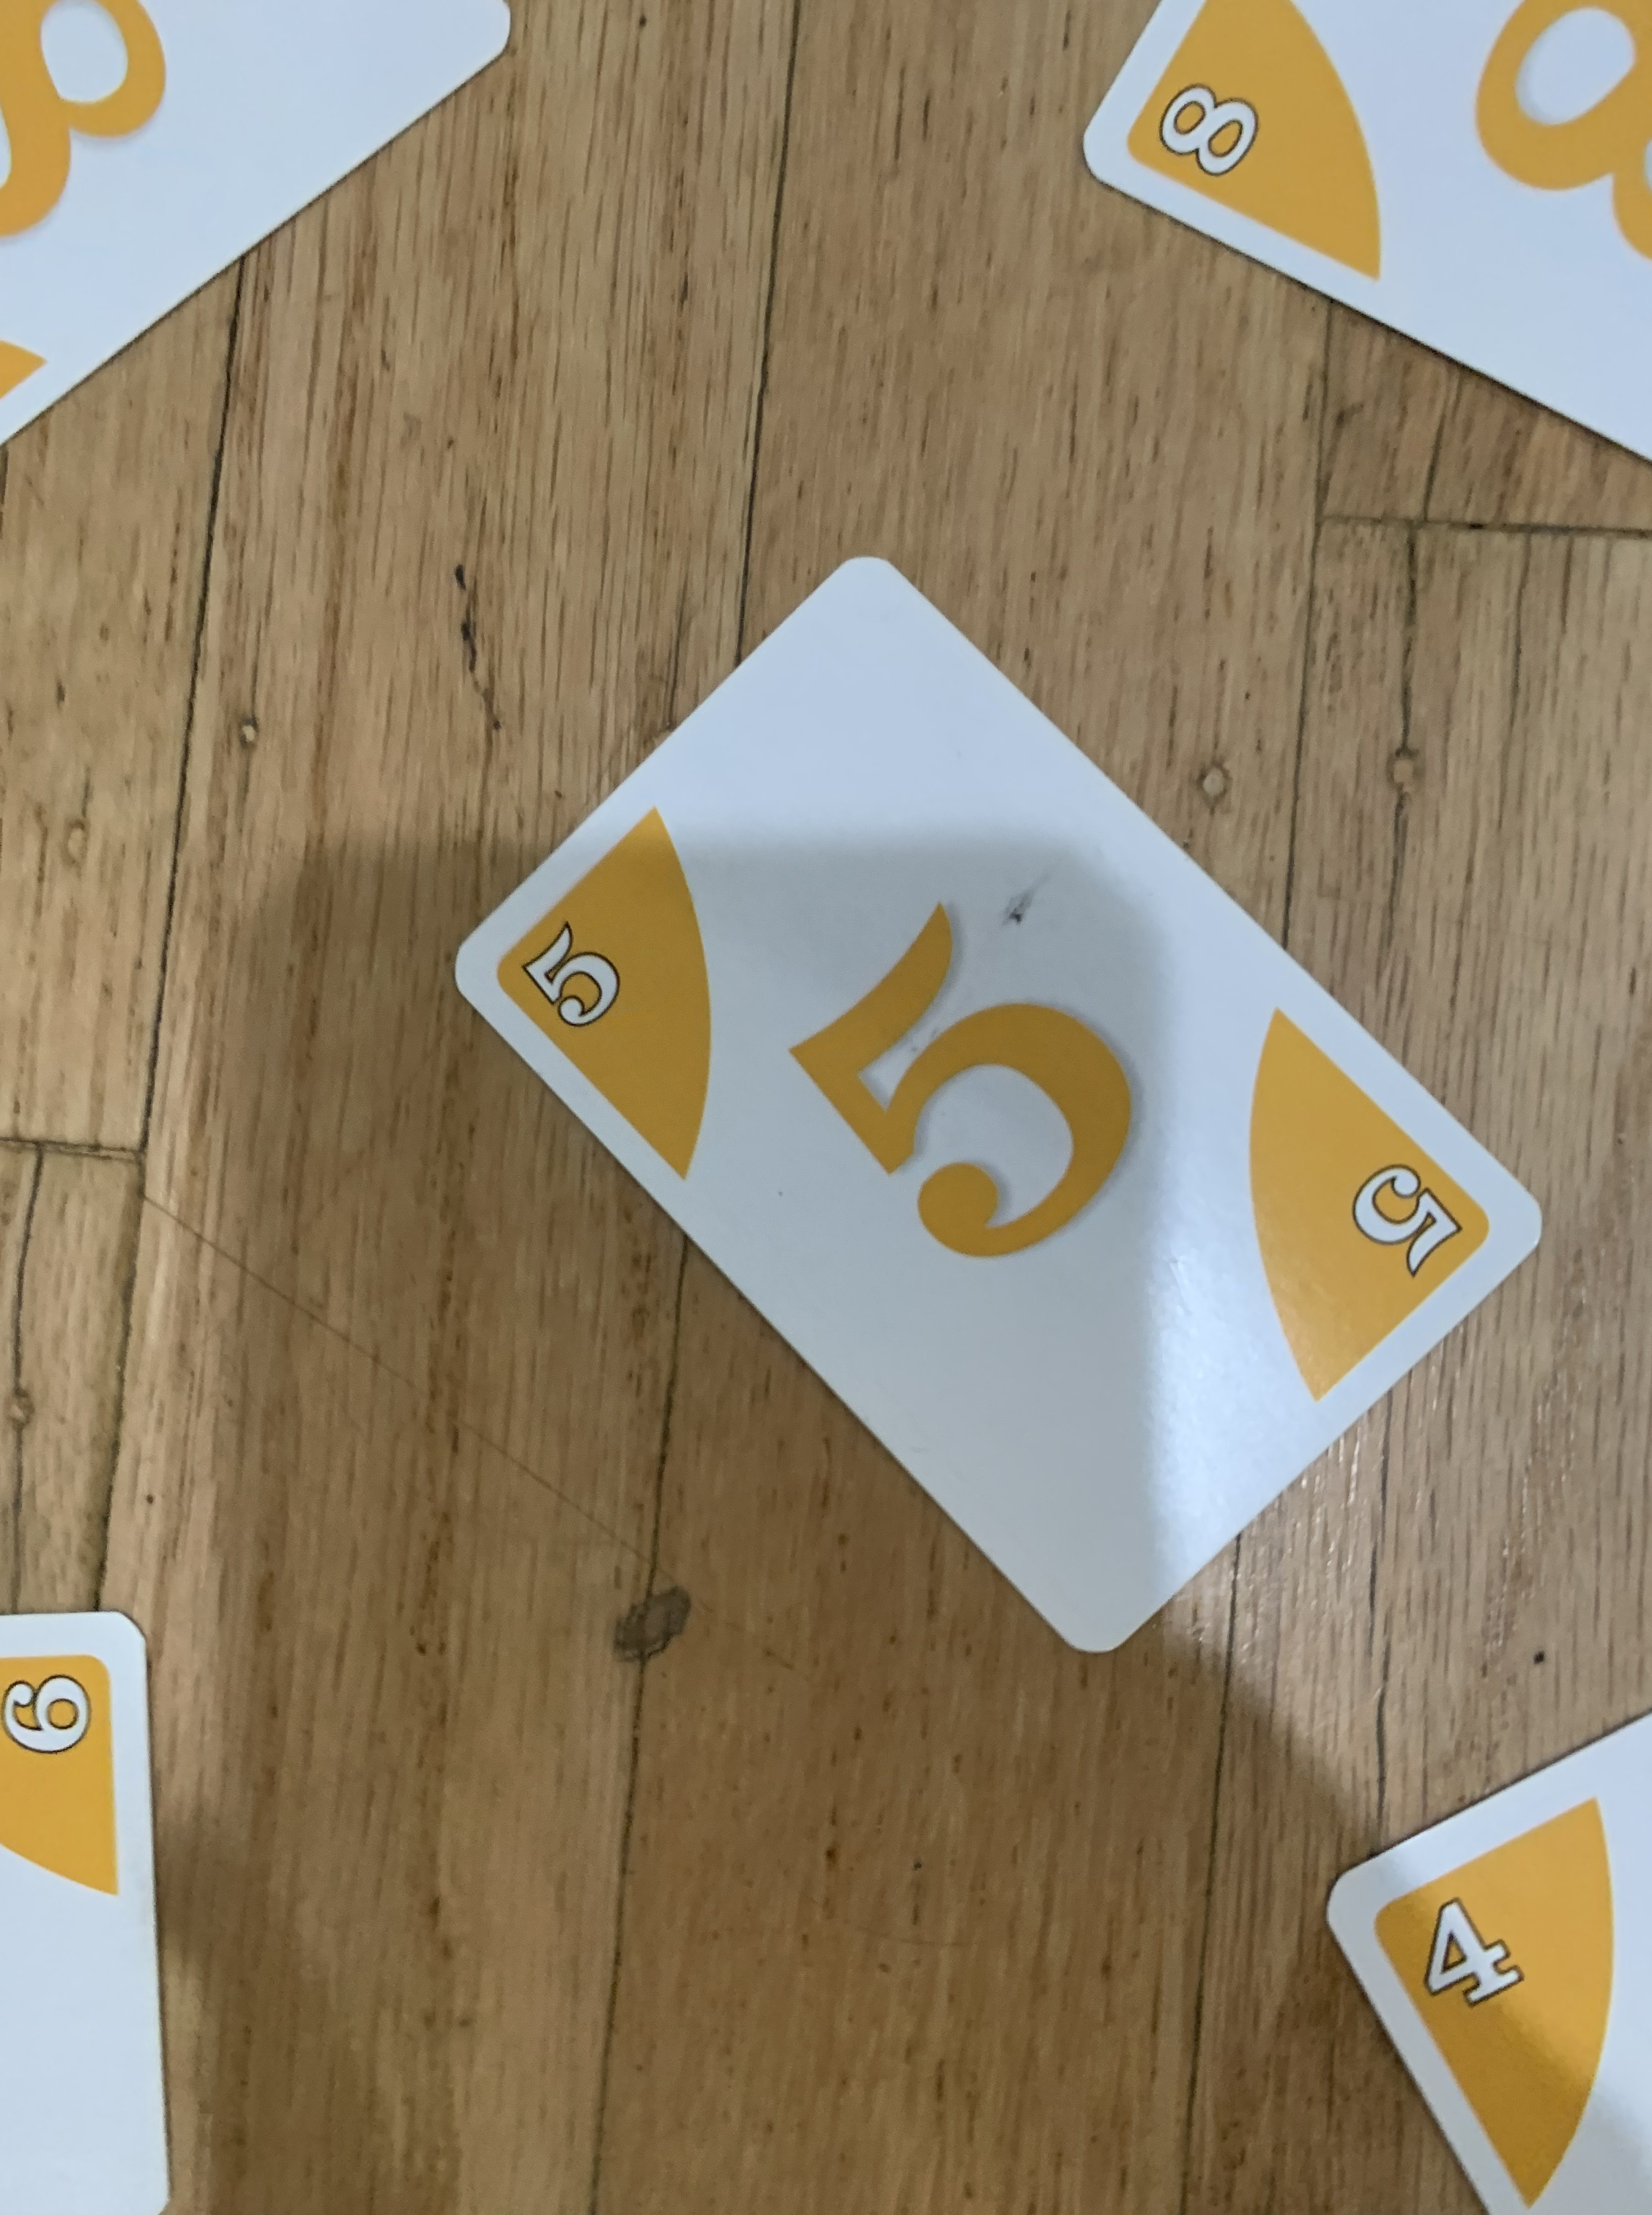five: (449, 545, 1553, 1665)
